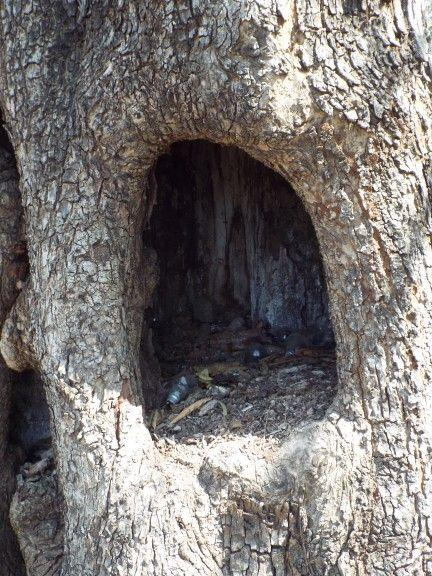hollow: (144, 141, 332, 387)
